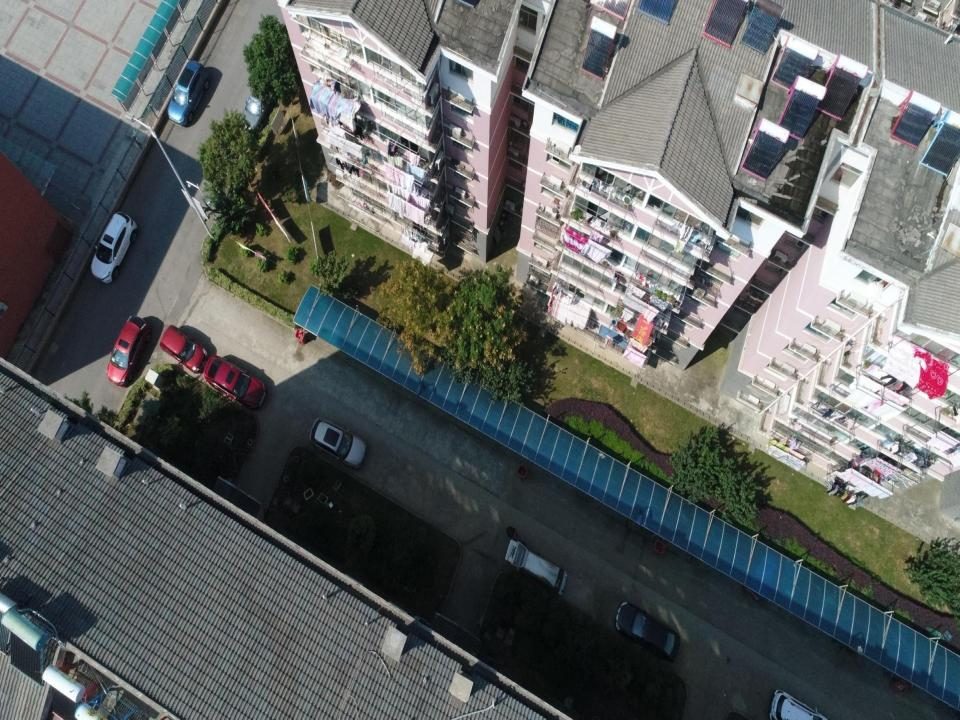car: (614, 600, 682, 662), (202, 354, 266, 412), (91, 211, 138, 284), (107, 316, 152, 388), (309, 418, 366, 470), (167, 60, 210, 126), (159, 325, 207, 374), (764, 686, 826, 719), (240, 80, 276, 134)
van: (504, 539, 568, 598)
